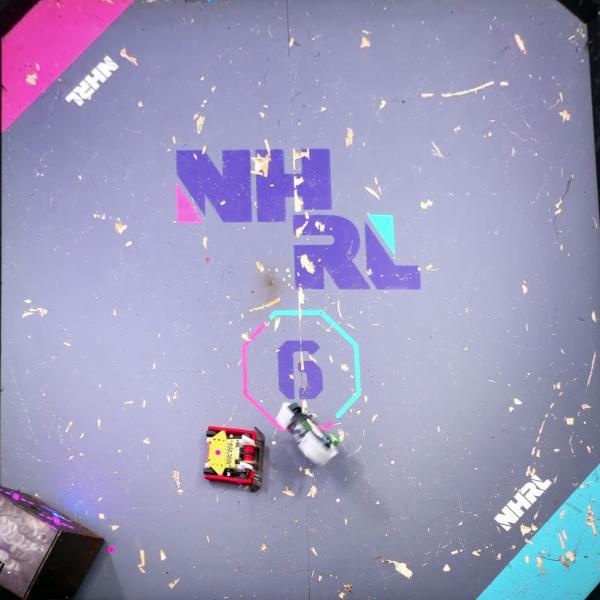housebot: (0, 485, 105, 600)
robot: (276, 400, 344, 469), (201, 424, 267, 492)
